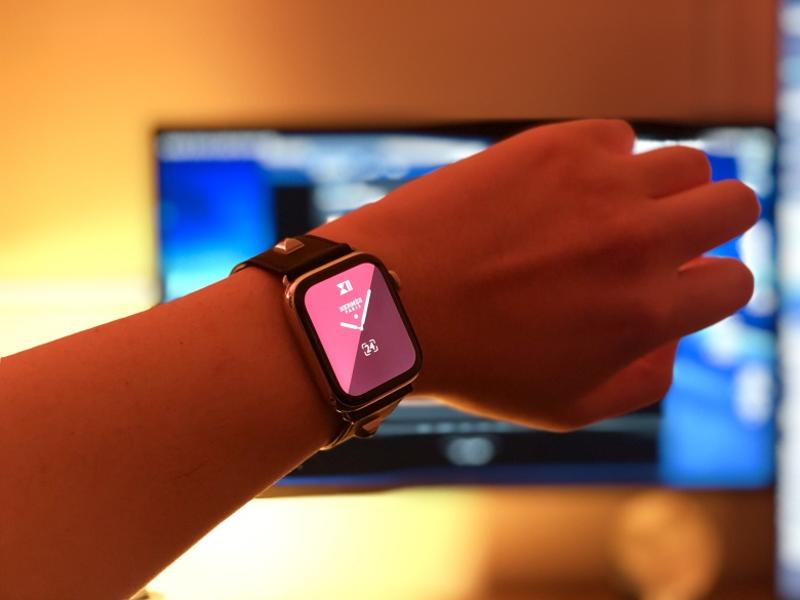watch: (230, 231, 424, 448)
